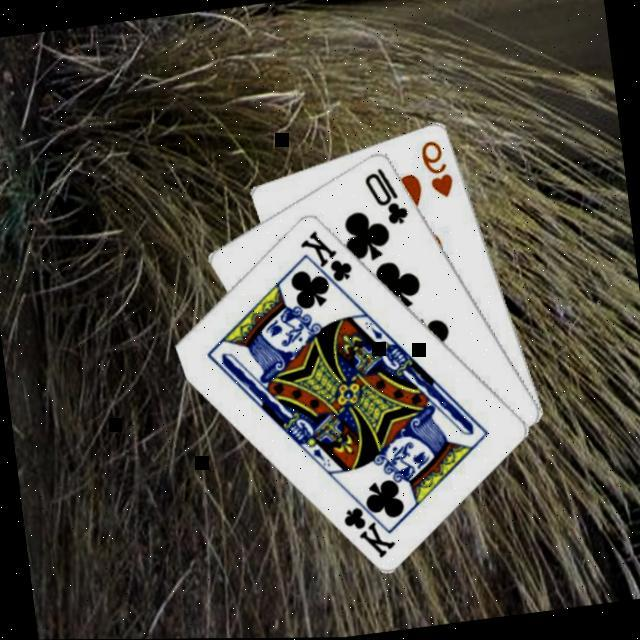10C: (361, 163, 414, 232)
9H: (417, 136, 459, 204)
KC: (338, 488, 400, 566), (296, 225, 358, 302)
